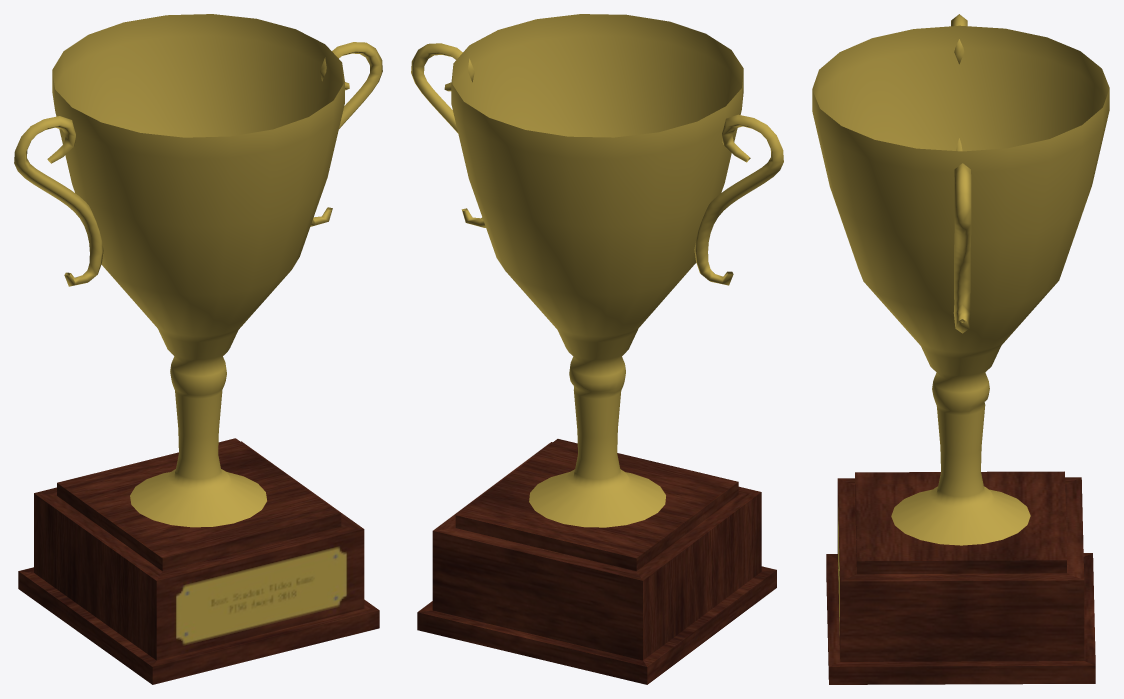
File: trophy.glb
3 renders of one model, left to right at view 1: azimuth 30°, elevation 25°; view 2: azimuth 150°, elevation 25°; view 3: azimuth 270°, elevation 25°, orthographic.
Parts seen in each view (by area): view 1: Trophy_1; view 2: Trophy_1; view 3: Trophy_1.
Boxes of the visible parts, x1,y1,x2,y2 form: Trophy_1: [14, 14, 382, 684]; Trophy_1: [411, 14, 783, 684]; Trophy_1: [812, 14, 1109, 684].
Bounding box in the file's own units: 98.91 × 136 × 67.94.
Materials: 1 (1 with a texture image).
